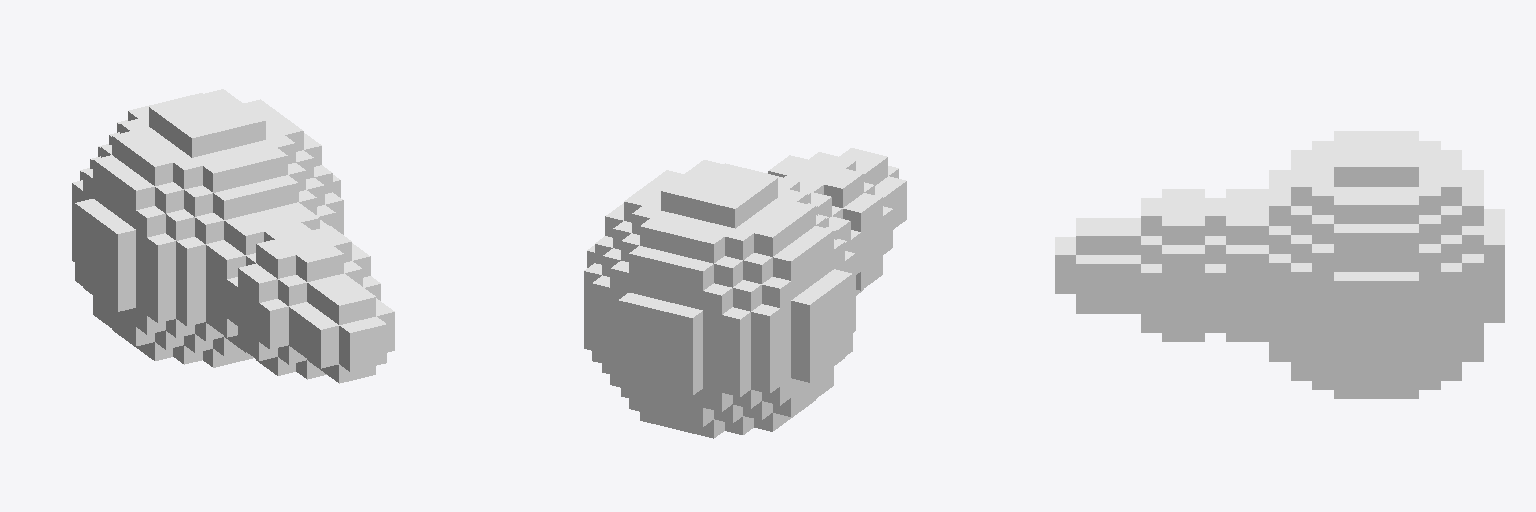
Rendered from TowerTopBasic.obj.
The picture shows the model from 3 angles: view 1: azimuth 30°, elevation 25°; view 2: azimuth 150°, elevation 25°; view 3: azimuth 270°, elevation 25°; orthographic projection.
Parts seen in each view (by area): view 1: object 1; view 2: object 1; view 3: object 1.
Part boxes in pixels (x1,y1,x2,y2): object 1: (72,89,394,383); object 1: (584,148,906,438); object 1: (1055,131,1504,398).
Size of the model in its own units: 1.2 by 1.1 by 2.1.